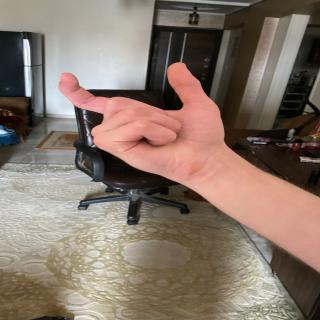NOON: (52, 56, 240, 191)
